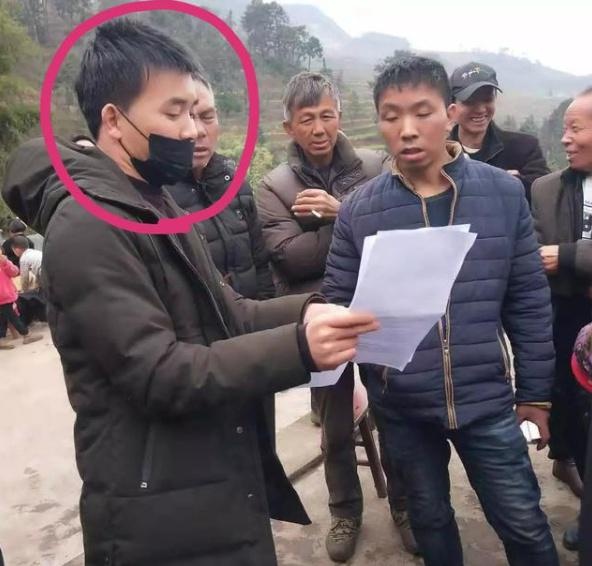NONE: (381, 94, 443, 171), (172, 101, 218, 173), (296, 108, 339, 157), (455, 90, 496, 134), (563, 113, 592, 174)
WRONG: (132, 82, 196, 189)
